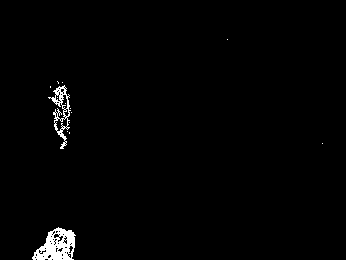person: (49, 81, 70, 150)
